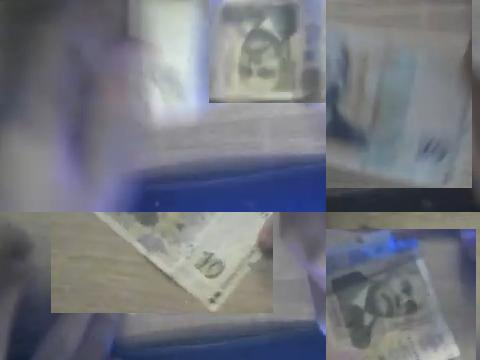10leva: (85, 212, 271, 313), (326, 229, 463, 360), (209, 0, 326, 103)
20leva: (326, 0, 472, 188)
